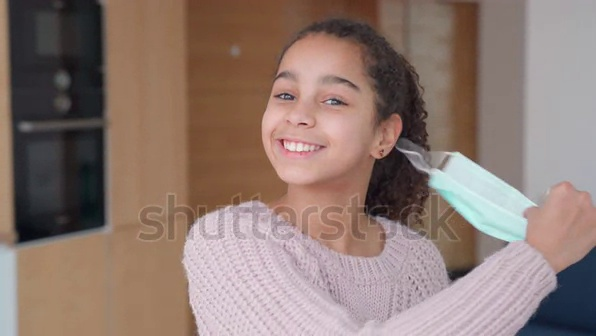No Mask: (250, 119, 368, 188)
